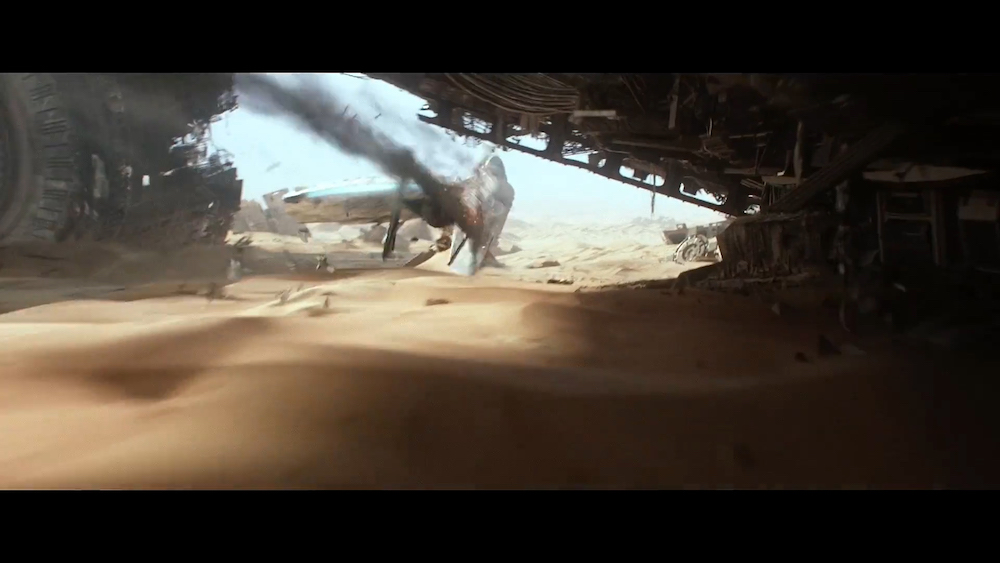Millennium Falcon: (283, 178, 464, 225)
Tie Fighter: (384, 154, 495, 266)
